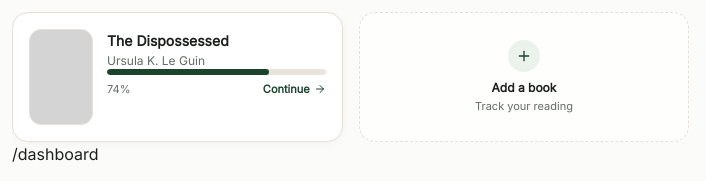
Test: Library CurrentReads › renders book metadata, rounds progress, and navigates after recording the open
Expected: the heading "The Dispossessed" is shown, 107,32 -> 229,49
Expected: the text "Ursula K. Le Guin" is shown, 107,53 -> 205,68
Click the button "The Dispossessed Ursula K. Le Guin 74% Continue" at (177, 77), box 12,12 -> 343,142
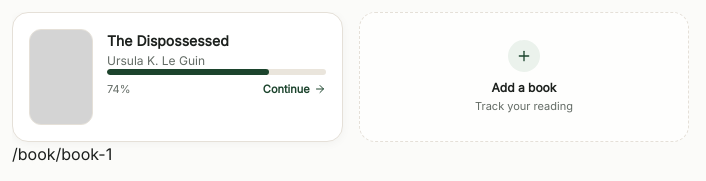
Now the text named "current route" reads "/book/book-1", box 12,144 -> 112,164
